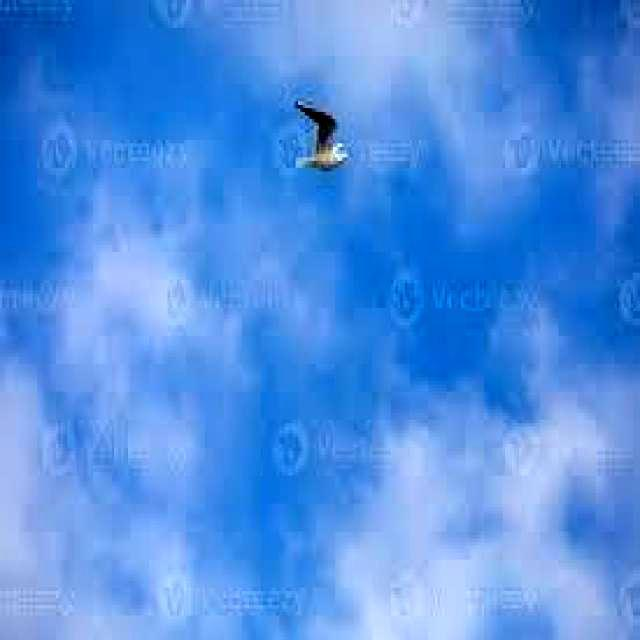bird: (292, 85, 349, 178)
